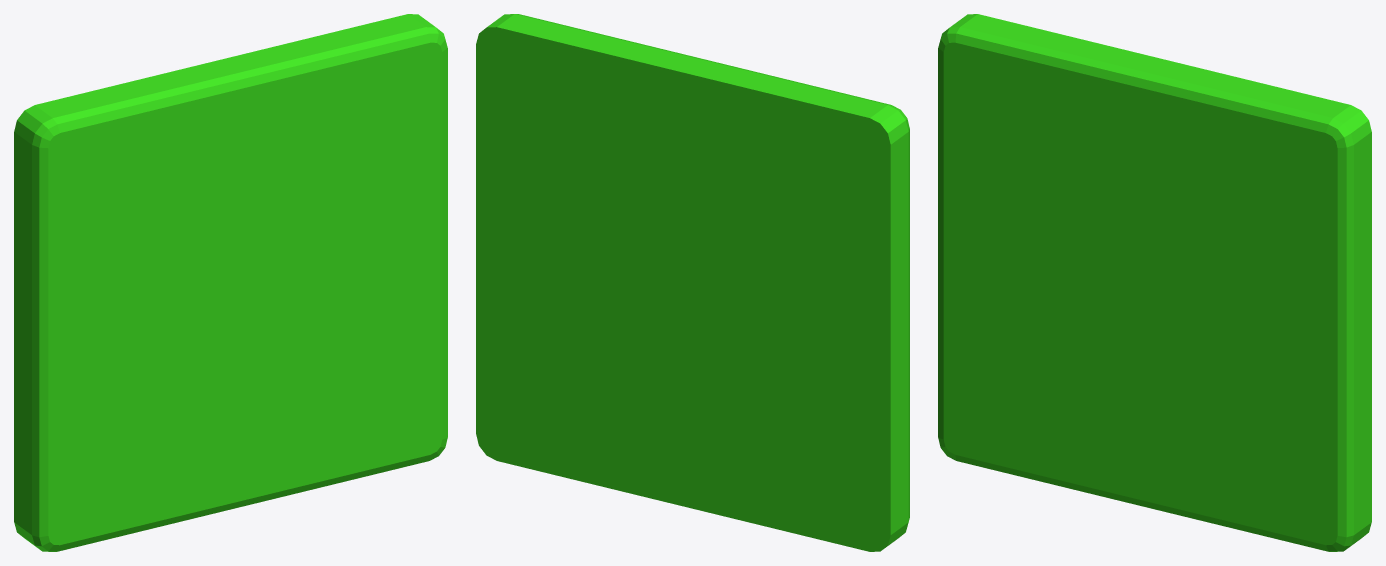
The model's file is wallPanel_lg.fbx.
The picture shows the model from 3 angles, left to right: view 1: azimuth 30°, elevation 25°; view 2: azimuth 150°, elevation 25°; view 3: azimuth 330°, elevation 25°; orthographic projection.
Parts seen in each view (by area): view 1: wallPanel_lg; view 2: wallPanel_lg; view 3: wallPanel_lg.
Part boxes in pixels (<box>): wallPanel_lg: <box>14,14,447,551</box>; wallPanel_lg: <box>476,14,909,551</box>; wallPanel_lg: <box>938,14,1371,551</box>.
Size of the model in its own units: 400 by 400 by 40.
